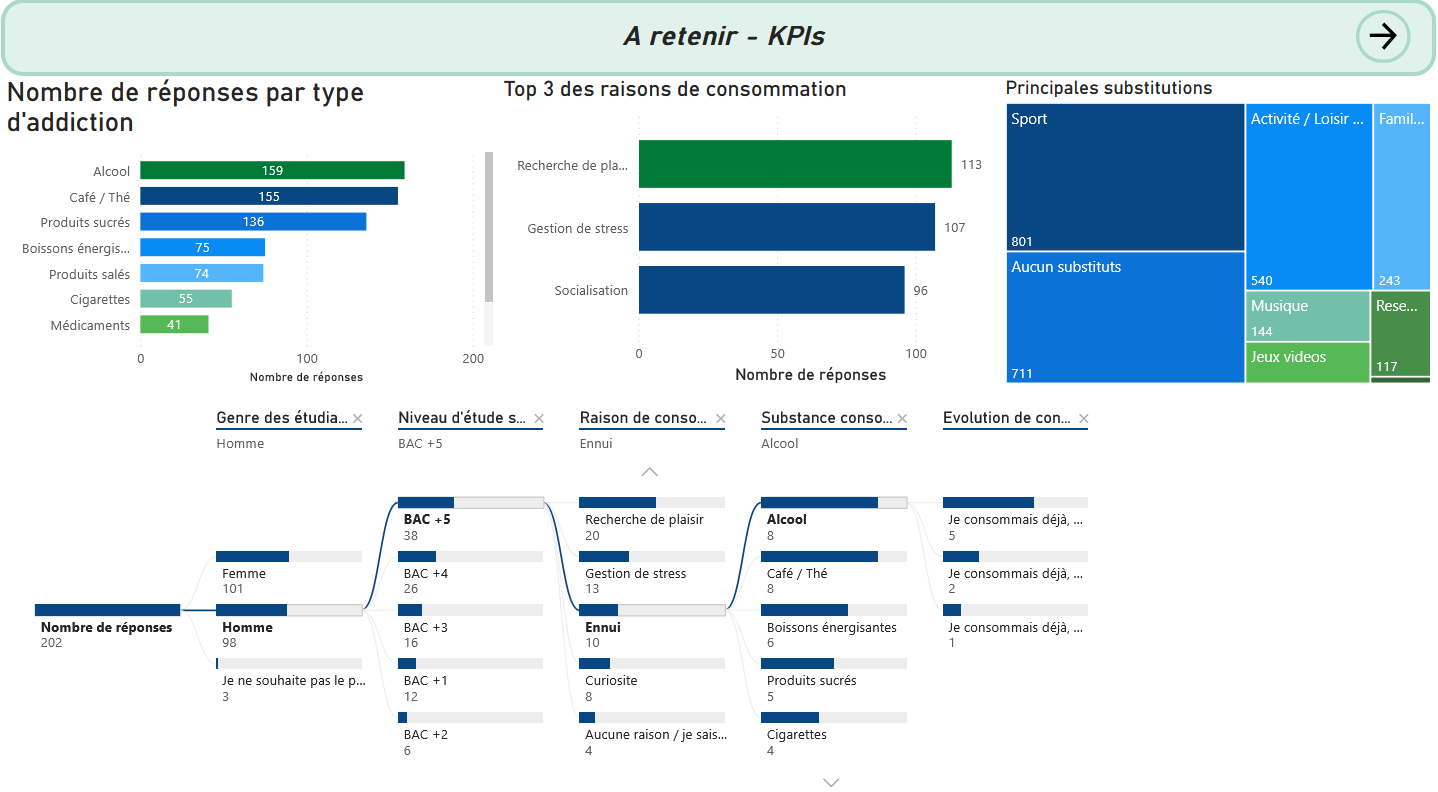

Layout of this report page (visuals, bound fields, positions):
{"tool":"powerbi","page":{"name":"A retenir - KPIs","canvas":[1280,720],"ordinal":4},"visuals":[{"type":"barChart","title":"Nombre de réponses par type d''addiction","fields":{"Y":["CountNonNull(FACT_CONSOMMATION.consommation flag)"],"Category":["DIM_ADDICTION.Libellé addiction visu"],"Series":["DIM_ADDICTION.Libellé addiction visu"]},"box":[0,69.1,443.5,279.1],"z":0},{"type":"treemap","title":"Principales substitutions","fields":{"Group":["DIM_SUBSTITUTS.libelle substitut"],"Values":["CountNonNull(FACT_CONSOMMATION.id repondant)"]},"box":[890.9,69.1,389.1,279.1],"z":1000},{"type":"textbox","title":"A retenir - KPIs","box":[0,0,1280,69],"z":2000},{"type":"barChart","title":"Top 3 des raisons de consommation","fields":{"Category":["DIM_RAISON_CONSO_ADDICTION.libelle raison addiction 2","DIM_ADDICTION.Libellé addiction visu"],"Y":["CountNonNull(FACT_REPONDANT.id repondant)"]},"box":[443.5,69.1,447.4,279.1],"z":3000},{"type":"decompositionTreeVisual","fields":{"ExplainBy":["DIM_GENRE.Libellé genre","DIM_ANNEE_ETUDE.Libbelé étude supérieure","DIM_RAISON_CONSO_ADDICTION.libelle raison addiction 2","DIM_ADDICTION.Libellé addiction visu","DIM_EVOLUTION.Libbelé évolution consommation"],"Analyze":["Count(FACT_CONSOMMATION.id repondant)"]},"box":[0,347.9,1280,372.2],"z":4000},{"type":"actionButton","box":[1208.5,9.8,48.8,47.2],"z":5000}]}

Visuals, with their boxes in screenshot pixels (x1, y1, x2, y2), scaled from the page's 1280x720 canvas onto the 1438x792 screenshot:
"Nombre de réponses par type d''addiction" barChart: rect(0, 76, 498, 383)
"Principales substitutions" treemap: rect(1001, 76, 1437, 383)
"A retenir - KPIs" textbox: rect(0, 0, 1437, 76)
"Top 3 des raisons de consommation" barChart: rect(498, 76, 1001, 383)
decompositionTreeVisual - DIM_GENRE.Libellé genre x DIM_ANNEE_ETUDE.Libbelé étude supérieure: rect(0, 383, 1437, 791)
actionButton: rect(1358, 11, 1412, 63)
